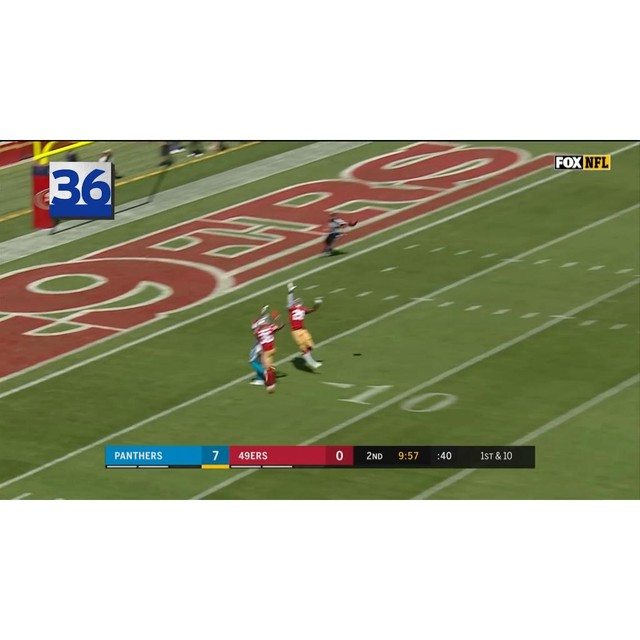american-football-player: (288, 294, 325, 370), (320, 212, 353, 257)
